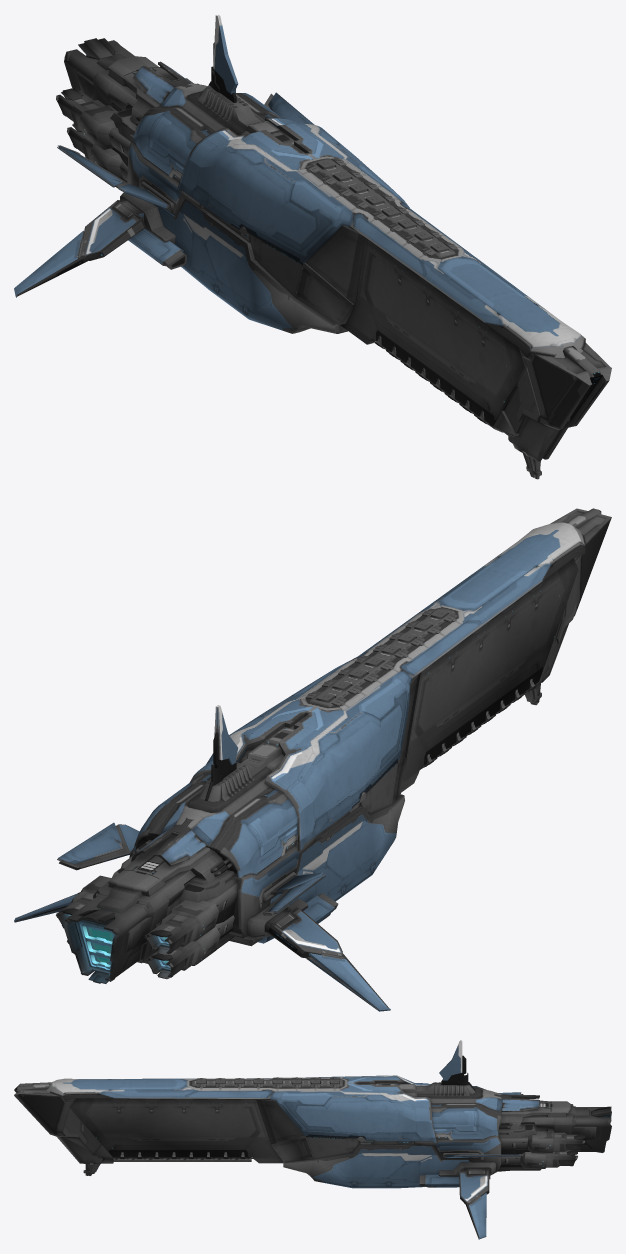
The model's file is 44996_lite.glb.
The picture shows the model from 3 angles, top to bottom: view 1: azimuth 30°, elevation 25°; view 2: azimuth 150°, elevation 25°; view 3: azimuth 270°, elevation 25°; orthographic projection. The views are drawn at different scales.
Visible parts, largest first — view 1: ship; view 2: ship; view 3: ship.
Part boxes in pixels (x1,y1,x2,y2): ship: (14, 14, 611, 479); ship: (14, 508, 611, 1011); ship: (14, 1040, 611, 1239).
Size of the model in its own units: 7.99 by 5.04 by 18.8.
1 material, 1 textured.
